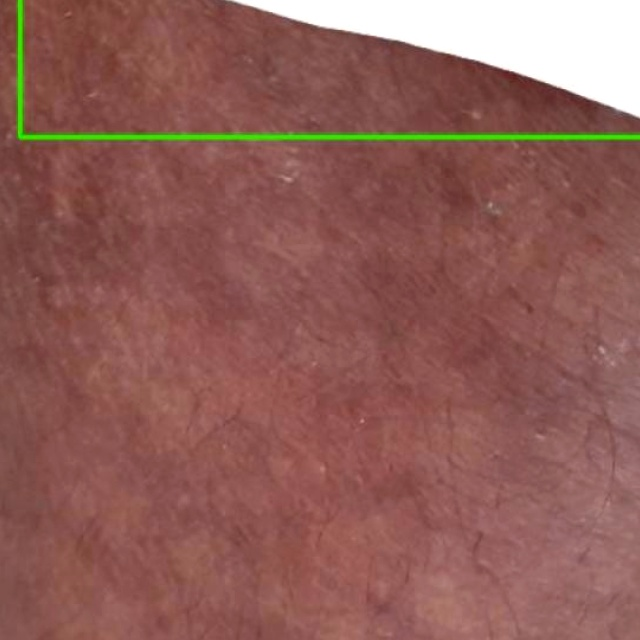Contact Dermatitis: (20, 0, 639, 136)
